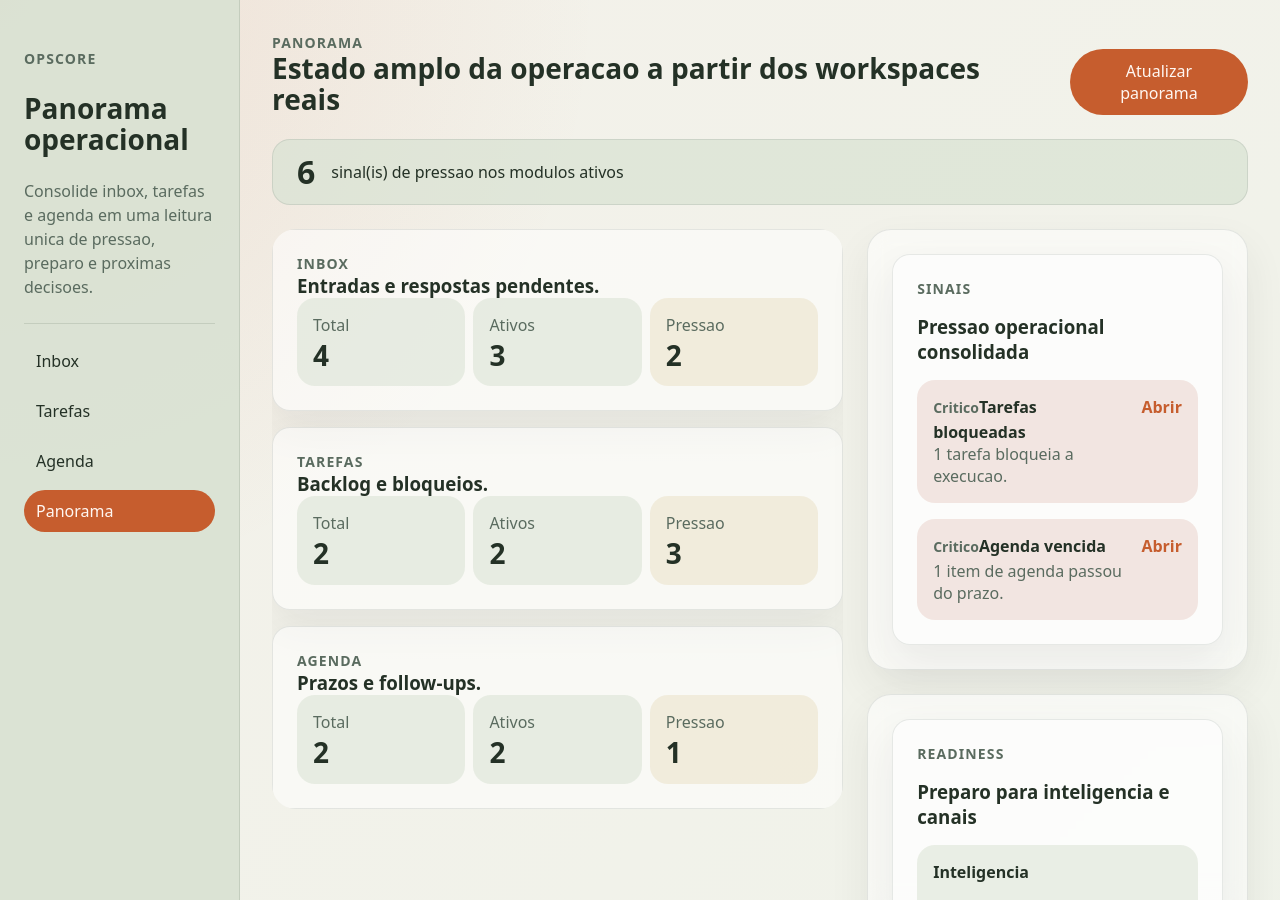
Test: panorama workspace shell › shows a short refresh error
This screenshot has width=1280, height=900.
Step 1. Click the button "Atualizar panorama" → (1159, 82), box [1070,49,1248,115]
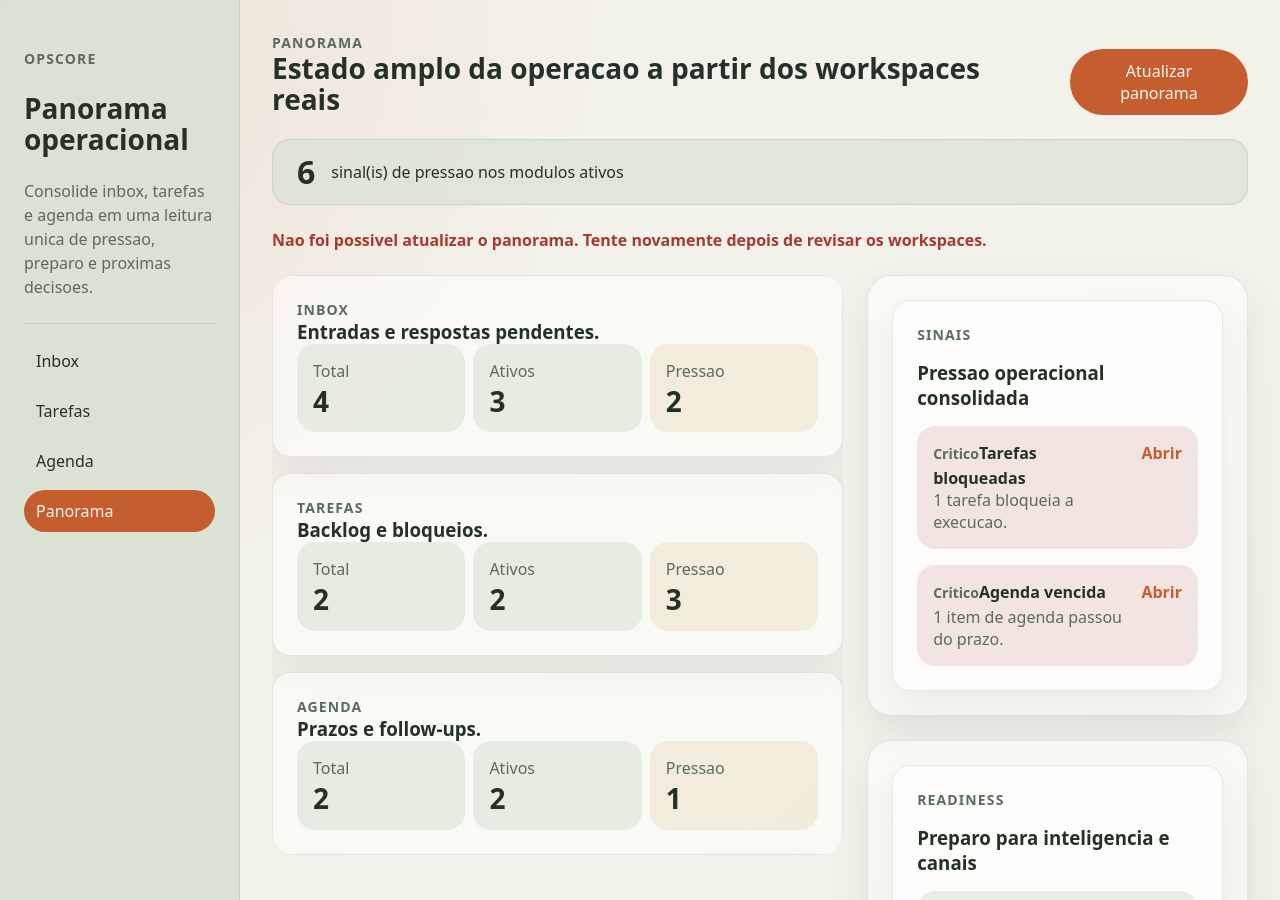
Result: the message shows "Nao foi possivel atualizar o panorama" at [272,229,987,251]
